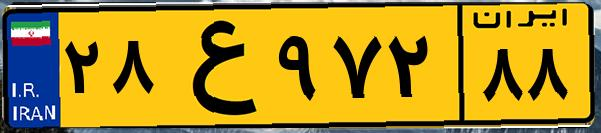2: (385, 28, 445, 110), (57, 26, 110, 100)
7: (330, 28, 385, 110)
8: (475, 38, 525, 113), (525, 38, 570, 115), (110, 28, 158, 98)
9: (270, 28, 330, 110)
ع: (158, 12, 270, 120)
